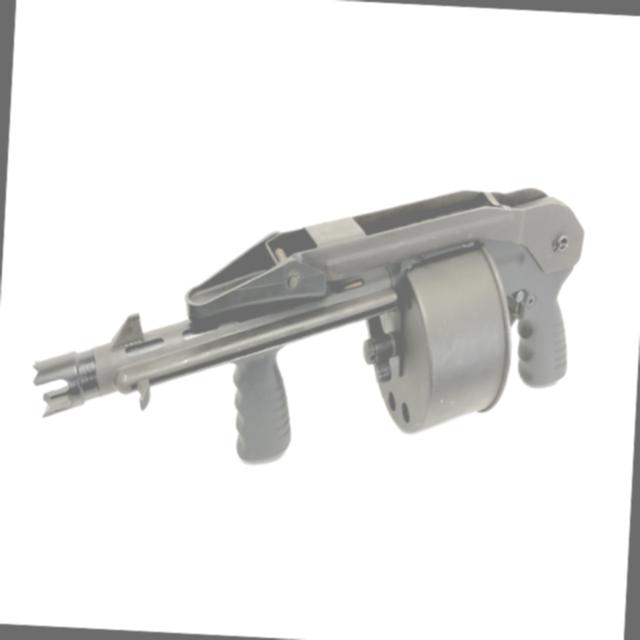shotgun: (29, 162, 584, 500)
